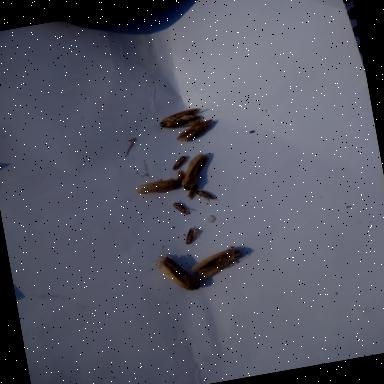abw: (152, 247, 202, 299), (184, 243, 248, 283), (173, 151, 215, 193), (154, 104, 207, 134), (132, 176, 182, 200)
pbw: (194, 184, 219, 206), (181, 224, 202, 246), (171, 198, 192, 218), (168, 154, 190, 172), (182, 182, 202, 201)
